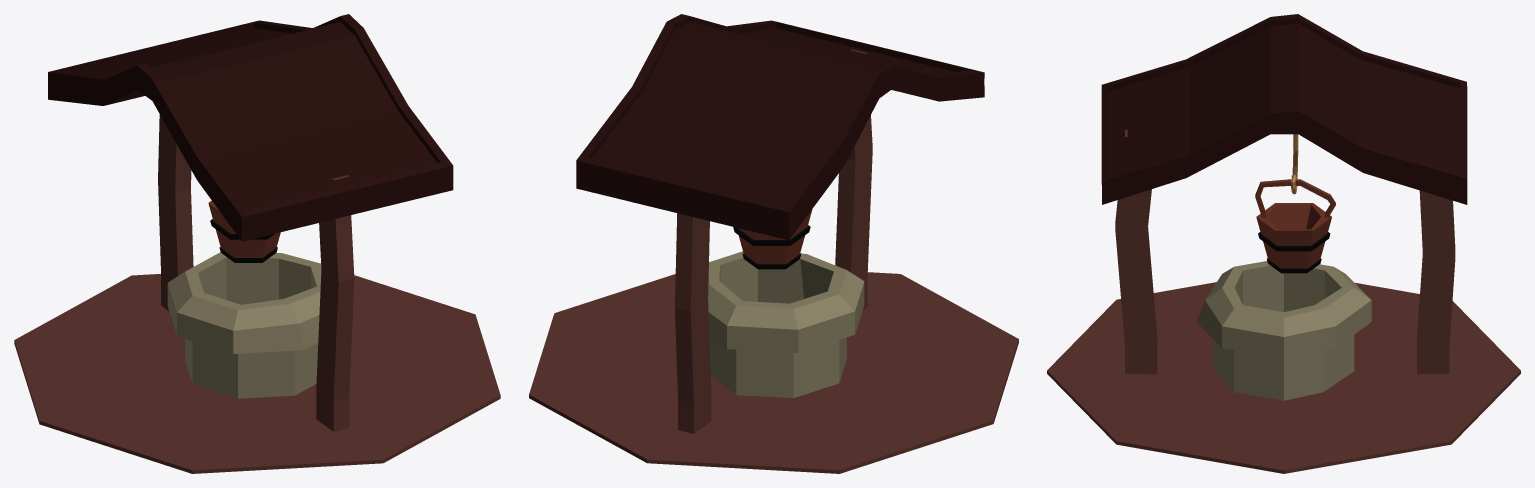
File: well.fbx
3 renders of one model, left to right at view 1: azimuth 30°, elevation 25°; view 2: azimuth 150°, elevation 25°; view 3: azimuth 270°, elevation 25°, orthographic. The views are drawn at different scales.
Visible parts, largest first — view 1: Well.001; view 2: Well.001; view 3: Well.001.
Part boxes in pixels (x1,y1,x2,y2): Well.001: (14,14,500,473); Well.001: (529,14,1018,473); Well.001: (1047,14,1520,473).
Size of the model in its own units: 259 by 186 by 259.
